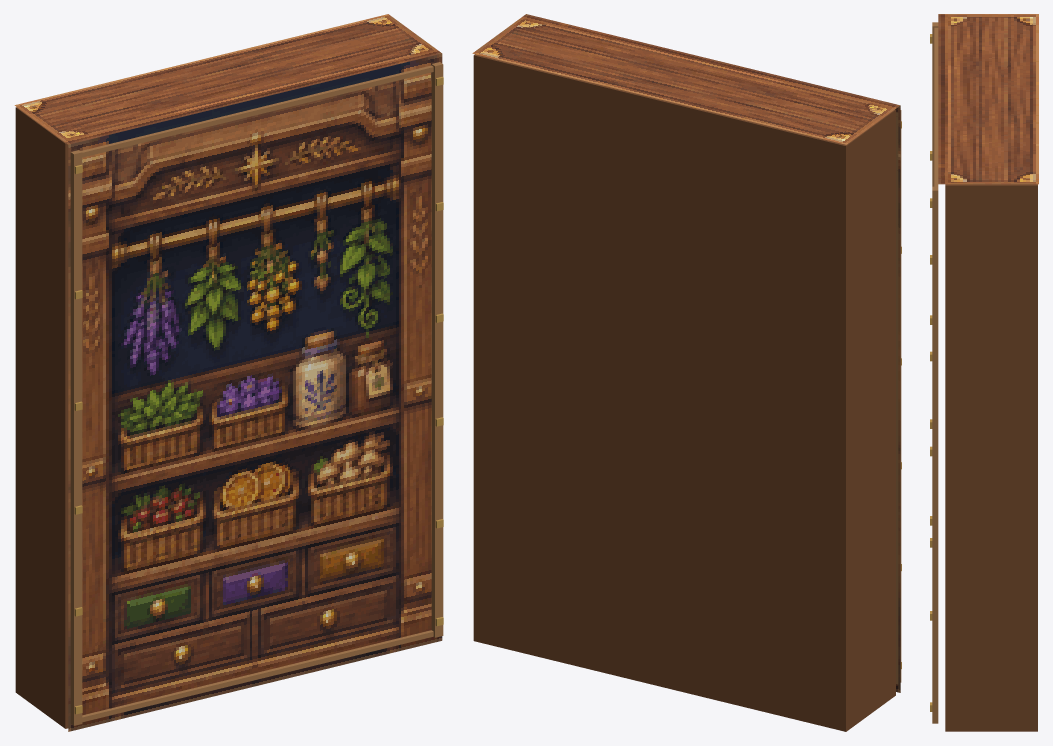
File: herb-cabinet.glb
3 renders of one model, left to right at view 1: azimuth 30°, elevation 25°; view 2: azimuth 150°, elevation 25°; view 3: azimuth 270°, elevation 25°, orthographic. The views are drawn at different scales.
Visible parts, largest first — view 1: Painted front, Carcass, Painted top; view 2: Carcass, Painted top, Painted front; view 3: Carcass, Painted top.
Part boxes in pixels (x1,y1,x2,y2): Painted front: [68, 53, 442, 731]; Carcass: [15, 62, 443, 728]; Painted top: [14, 14, 441, 144]; Carcass: [473, 54, 901, 731]; Painted top: [472, 14, 899, 144]; Painted front: [895, 105, 900, 692]; Carcass: [930, 22, 1037, 731]; Painted top: [938, 14, 1038, 184].
Size of the model in its own units: 2 by 3 by 0.541.
Materials: 4 (1 with a texture image).
